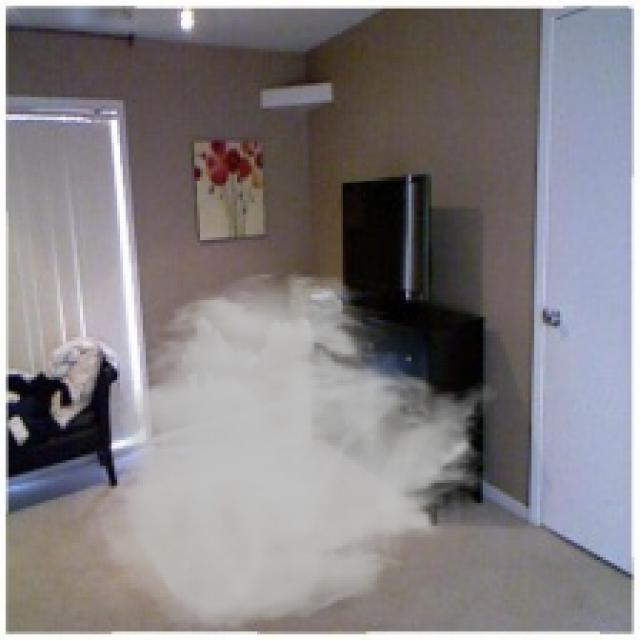smoke: (97, 269, 500, 637)
